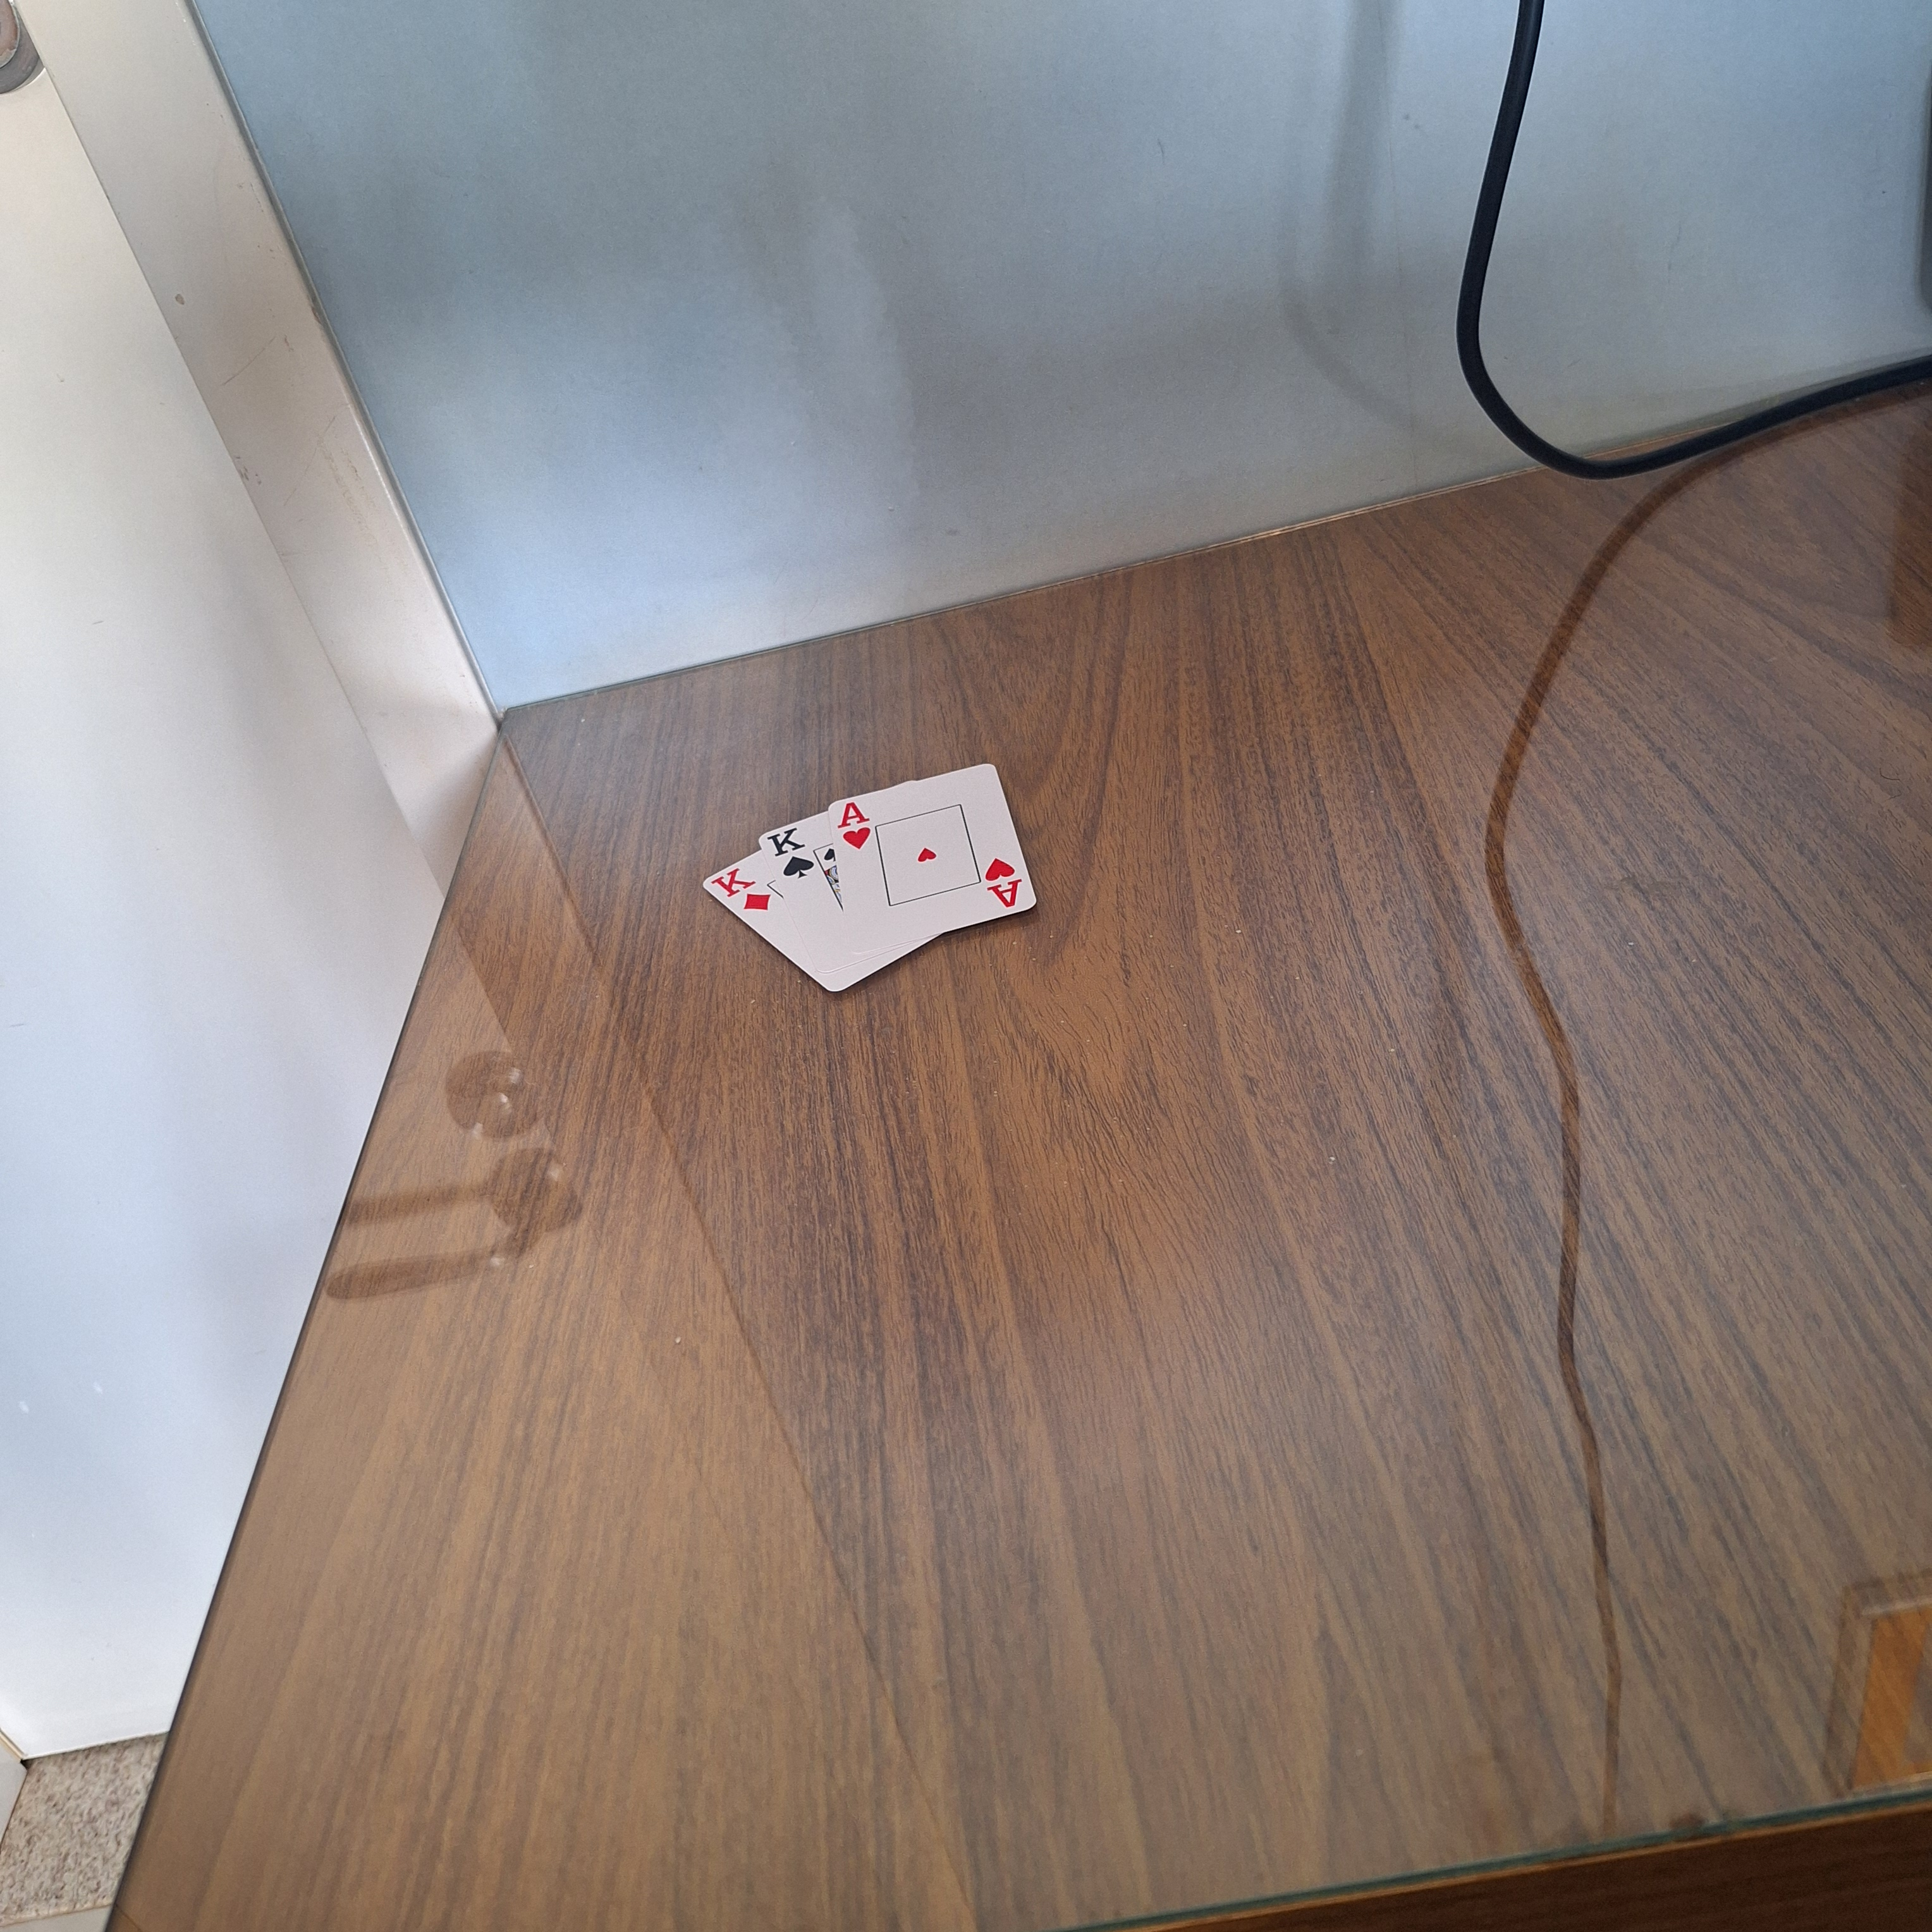AC: (980, 853, 1028, 913), (835, 798, 878, 851)
KE: (759, 821, 819, 881)
KO: (706, 862, 773, 916)
